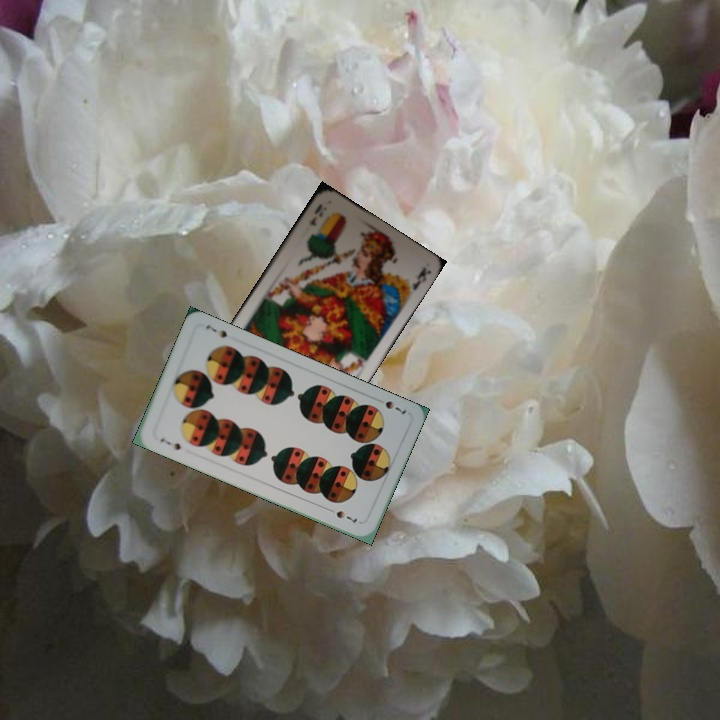EK: (307, 200, 326, 229)
S7: (381, 396, 409, 418), (156, 434, 183, 453)
